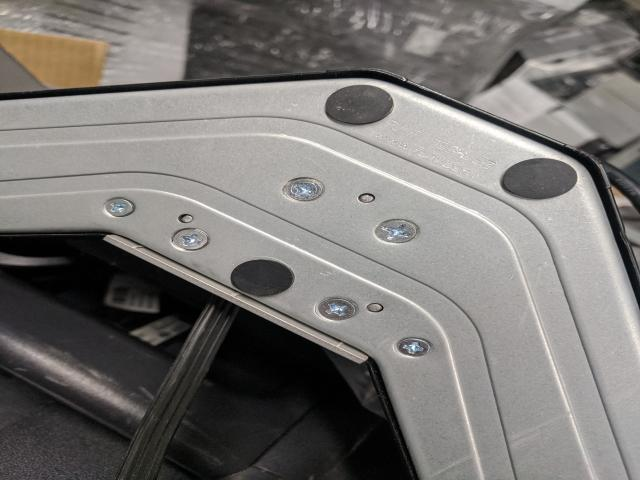CRS: (374, 220, 419, 245), (168, 227, 212, 252), (282, 177, 325, 202), (316, 296, 358, 321), (397, 336, 431, 358), (106, 198, 135, 218)
